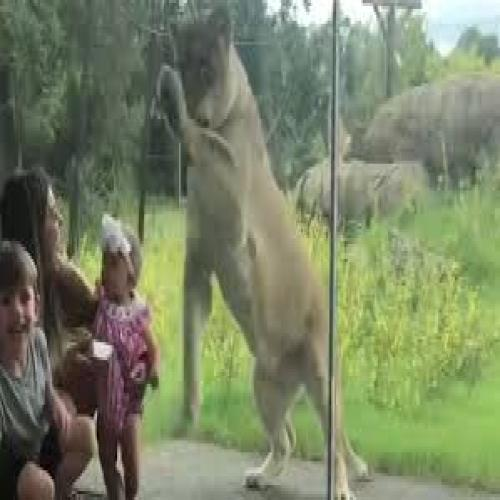lion-endangered: (152, 12, 365, 500)
